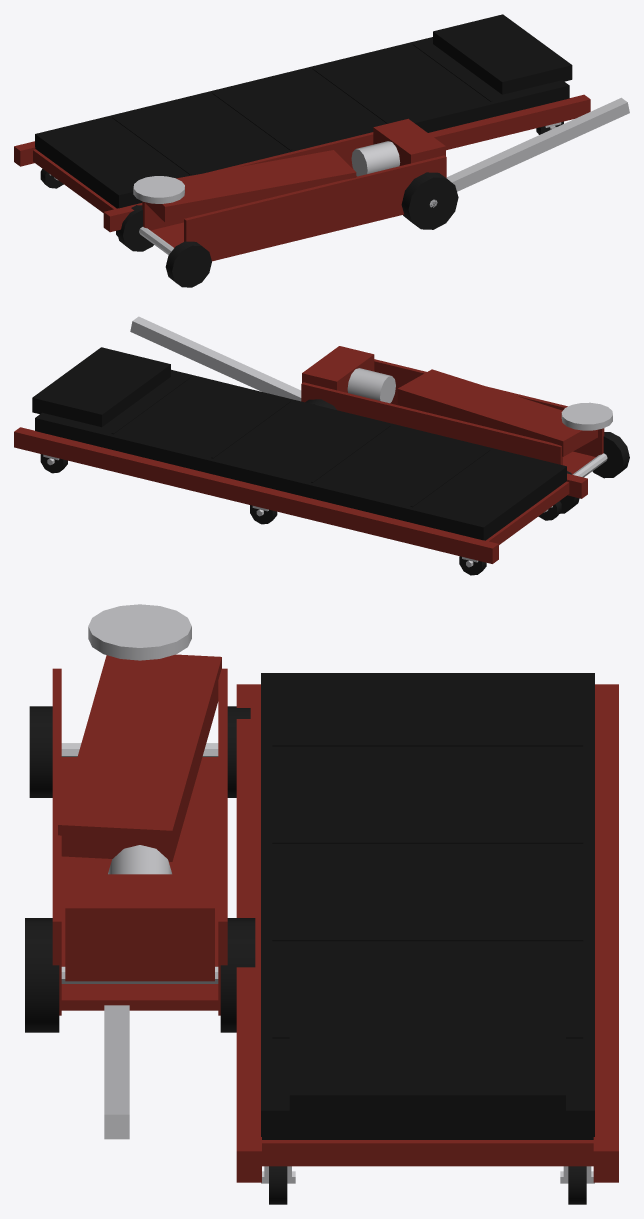
File: jack-creeper.glb
3 views of the same model, one above another, from view 1: azimuth 30°, elevation 25°; view 2: azimuth 150°, elevation 25°; view 3: azimuth 270°, elevation 25° (orthographic). The views are drawn at different scales.
Parts seen in each view (by area): view 1: jack; view 2: jack; view 3: jack.
Part boxes in pixels (x1,y1,x2,y2): jack: (14, 14, 629, 287); jack: (14, 316, 629, 575); jack: (25, 604, 618, 1204).
Bounding box in the file's own units: 0.9722 × 0.156 × 0.516.
